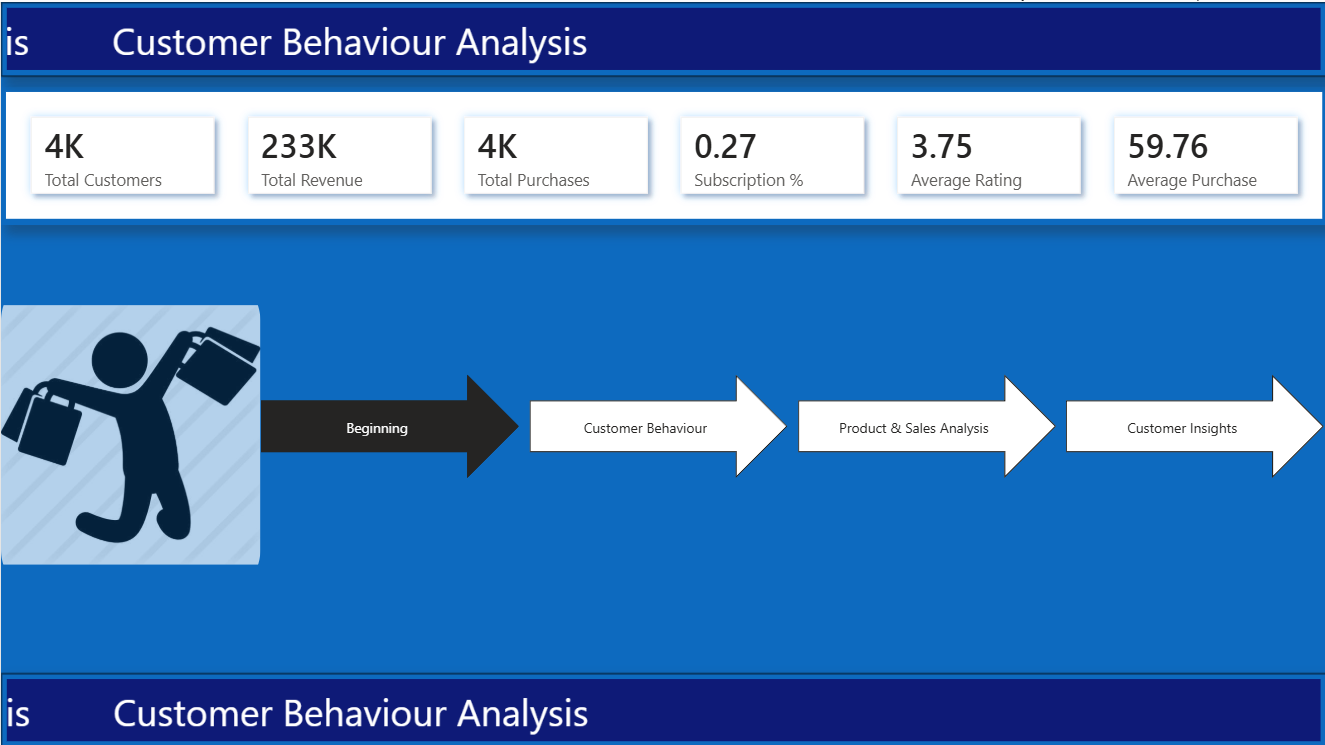

Layout of this report page (visuals, bound fields, positions):
{"tool":"powerbi","page":{"name":"Beginning ","canvas":[1280,720],"ordinal":0},"visuals":[{"type":"briqlabScroller5CF8B81920EB435494A08E79D75B53E7","box":[0,0,1280.2,72],"z":0},{"type":"briqlabScroller5CF8B81920EB435494A08E79D75B53E7","box":[0,648,1280.2,72],"z":1},{"type":"image","box":[0,257.8,250.6,319.7],"z":2},{"type":"cardVisual","fields":{"Data":["shopping_behavior_Cleaned.Total Customers","shopping_behavior_Cleaned.Total Revenue","shopping_behavior_Cleaned.Total Purchases","shopping_behavior_Cleaned.Subscription %","shopping_behavior_Cleaned.Average Rating","shopping_behavior_Cleaned.Average Purchase"]},"box":[0,82.1,1280.2,132.5],"z":3},{"type":"pageNavigator","box":[250.6,360,1029.6,100.8],"z":4}]}

Visuals, with their boxes in screenshot pixels (x1, y1, x2, y2), scaled from the page's 1280x720 canvas onto the 1325x745 screenshot:
briqlabScroller5CF8B81920EB435494A08E79D75B53E7: [0, 0, 1324, 74]
briqlabScroller5CF8B81920EB435494A08E79D75B53E7: [0, 671, 1324, 744]
image: [0, 267, 259, 598]
cardVisual - shopping_behavior_Cleaned.Total Customers x shopping_behavior_Cleaned.Total Revenue: [0, 85, 1324, 222]
pageNavigator: [259, 373, 1324, 477]
